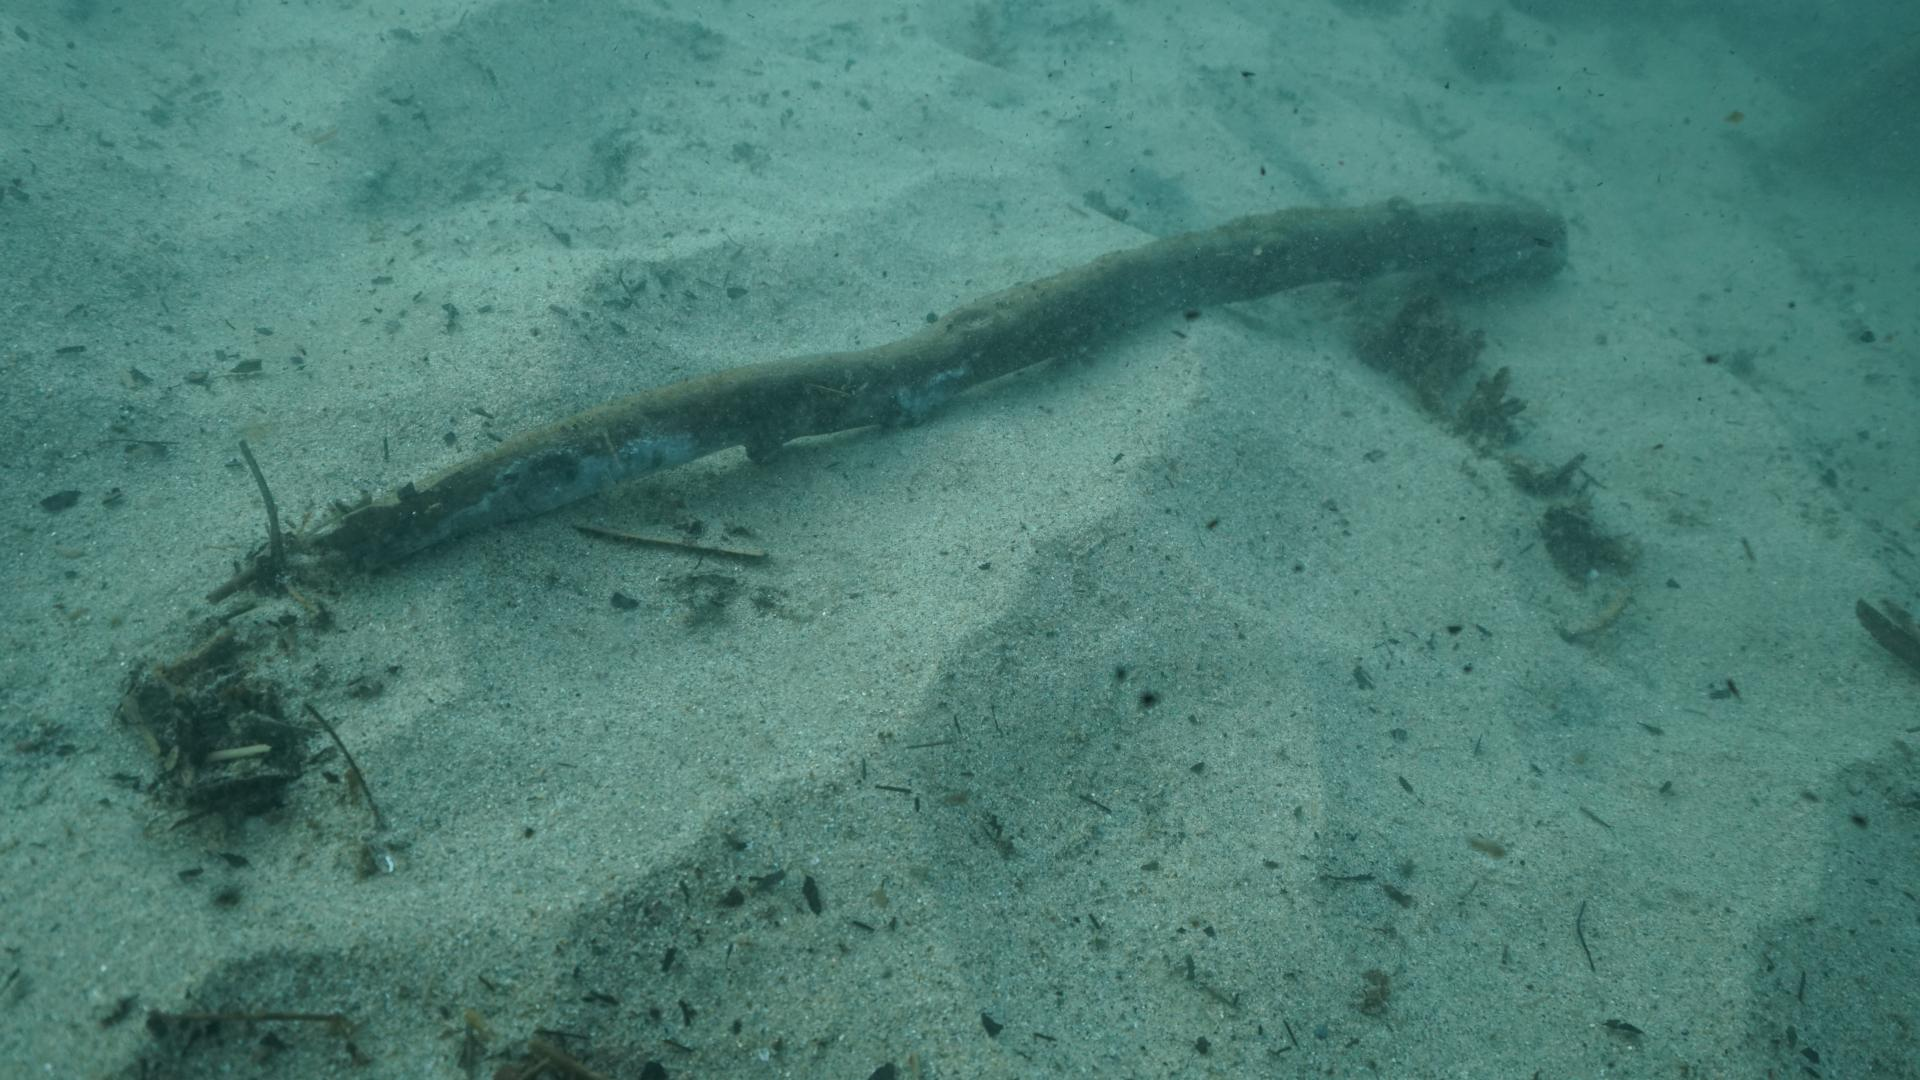wood: (204, 195, 1571, 599)
